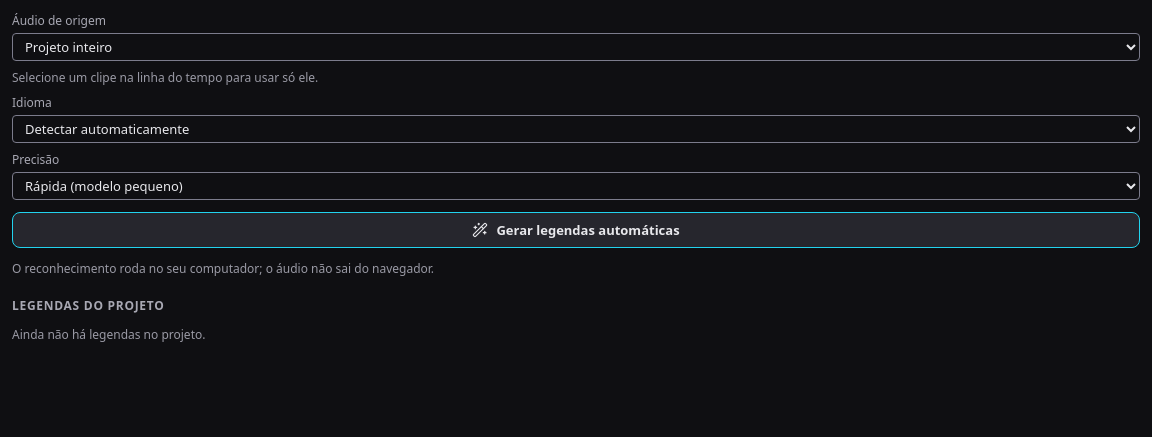
it: CaptionsTab › cancela a transcrição em andamento
What coordinates should you click on to do the following:
click the button "Gerar legendas automáticas"
I would click on:
 (576, 230)
Its box is [12, 212, 1140, 248].
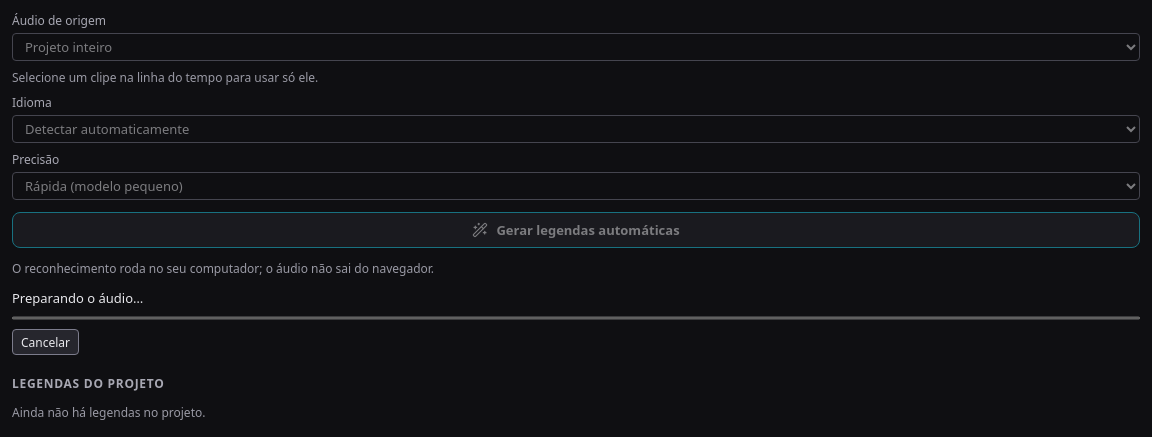
What coordinates should you click on to do the following:
click the button "Cancelar"
I would click on:
 (46, 342)
Its box is [12, 329, 79, 355].
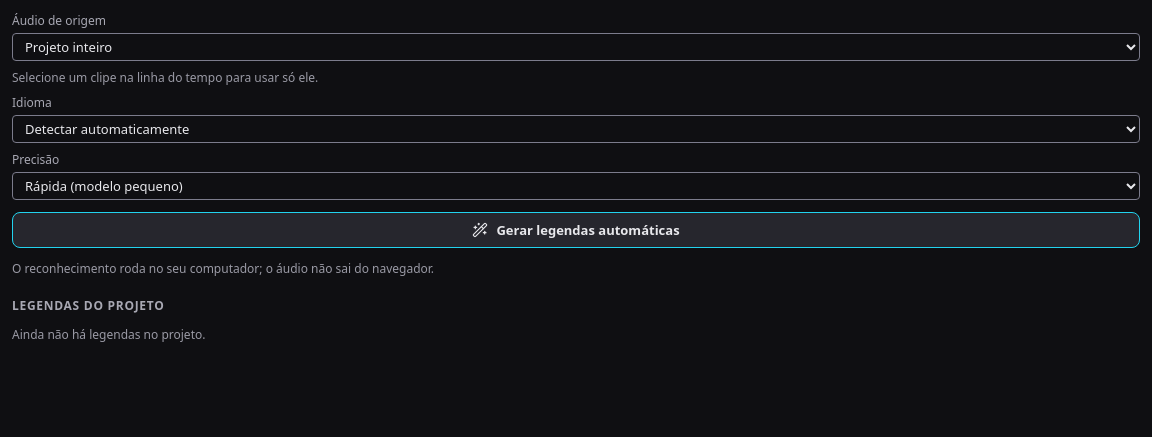
Result: the button "Gerar legendas automáticas" is enabled at [12, 212, 1140, 248]
